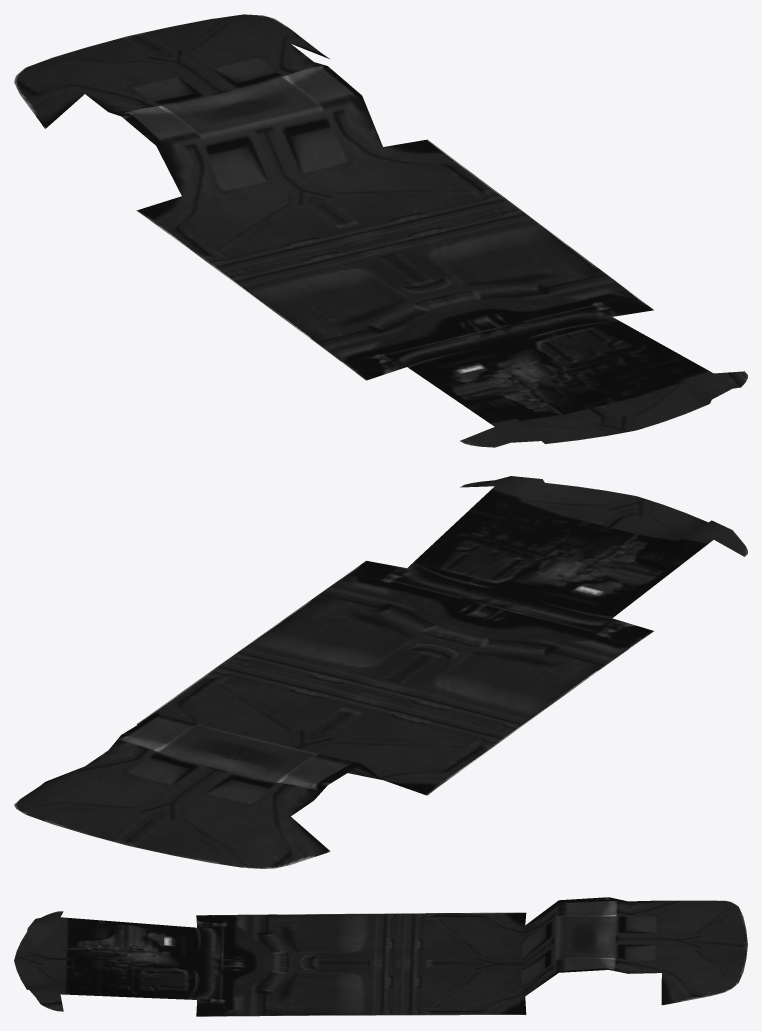
Rendered from 7Alt.fbx.
3 renders of one model, top to bottom at view 1: azimuth 30°, elevation 25°; view 2: azimuth 150°, elevation 25°; view 3: azimuth 270°, elevation 25°, orthographic. The views are drawn at different scales.
Visible parts, largest first — view 1: Object001; view 2: Object001; view 3: Object001.
Part boxes in pixels (x1,y1,x2,y2): Object001: (14,14,747,447); Object001: (14,476,747,868); Object001: (14,897,747,1016).
Bounding box in the file's own units: 1601 × 236 × 4841.
